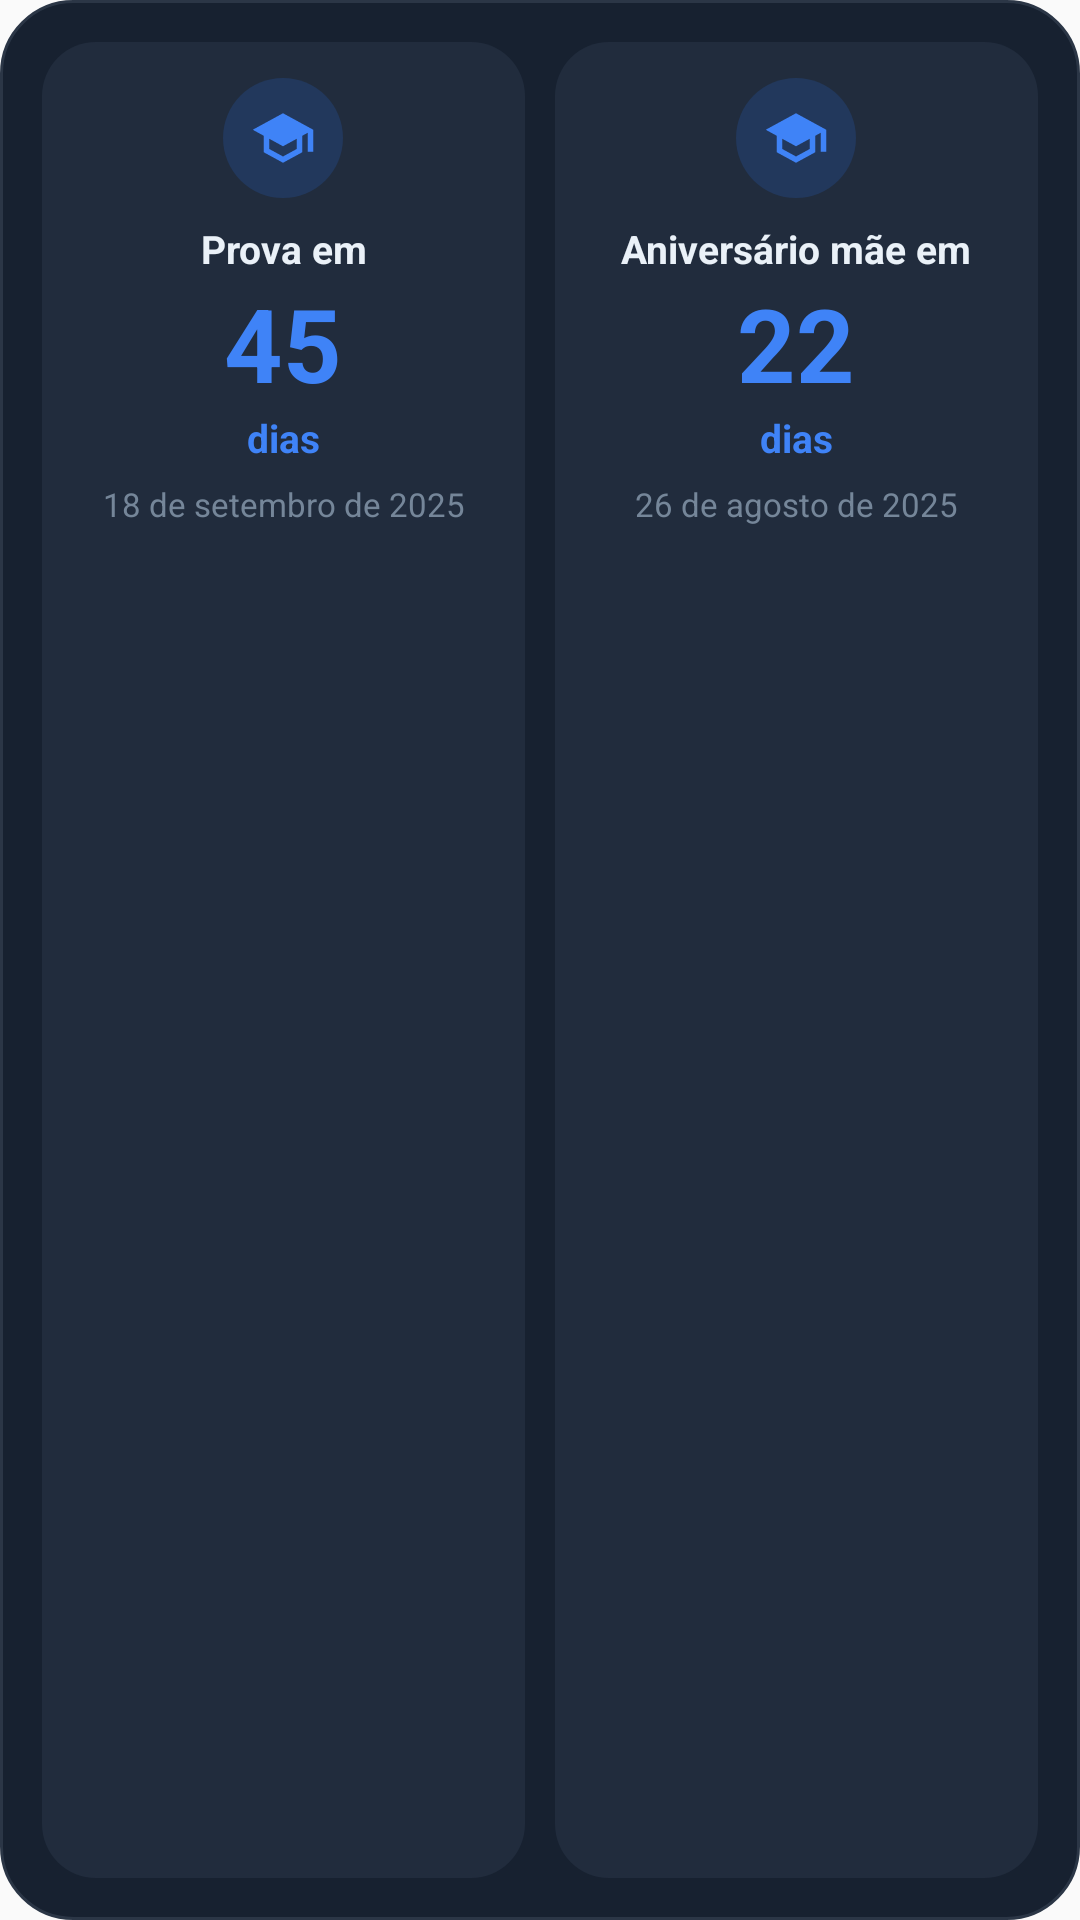

Screen size 1080 × 1920. Icon name, then its center in pixels as (x,y):
widget cap: (283,138), (796,138)
